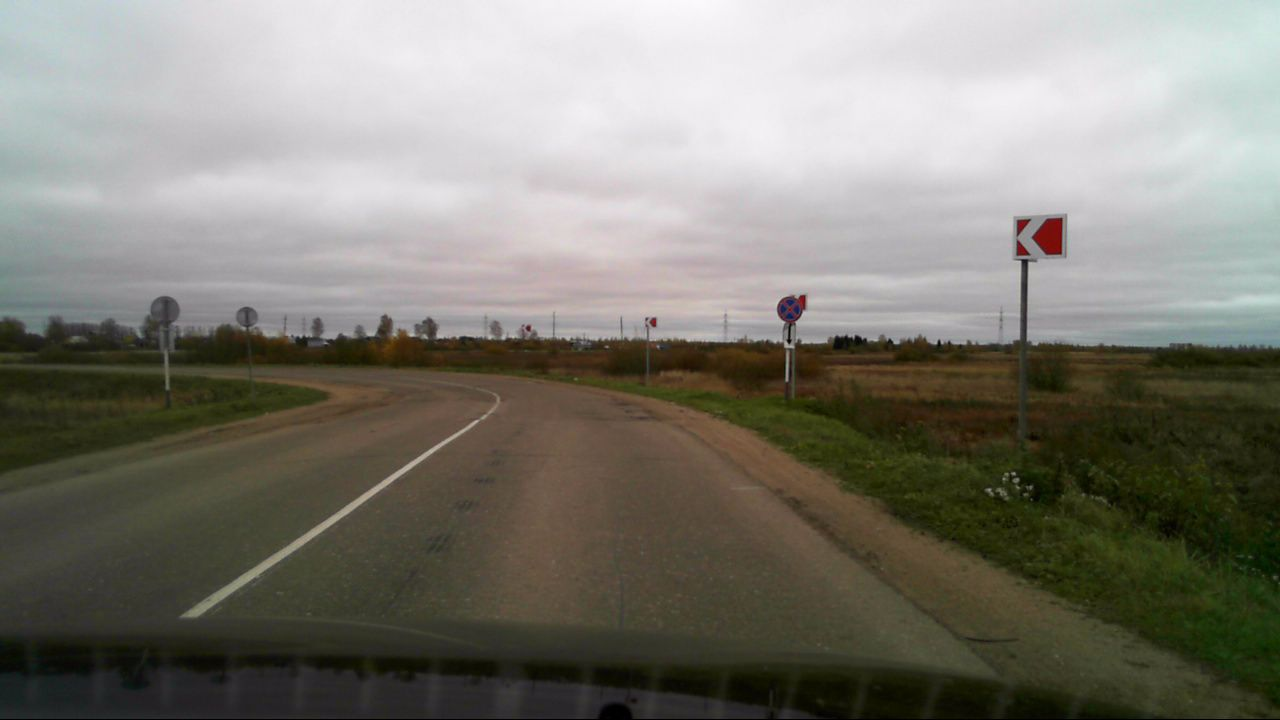No Parking: (777, 295, 802, 321)
